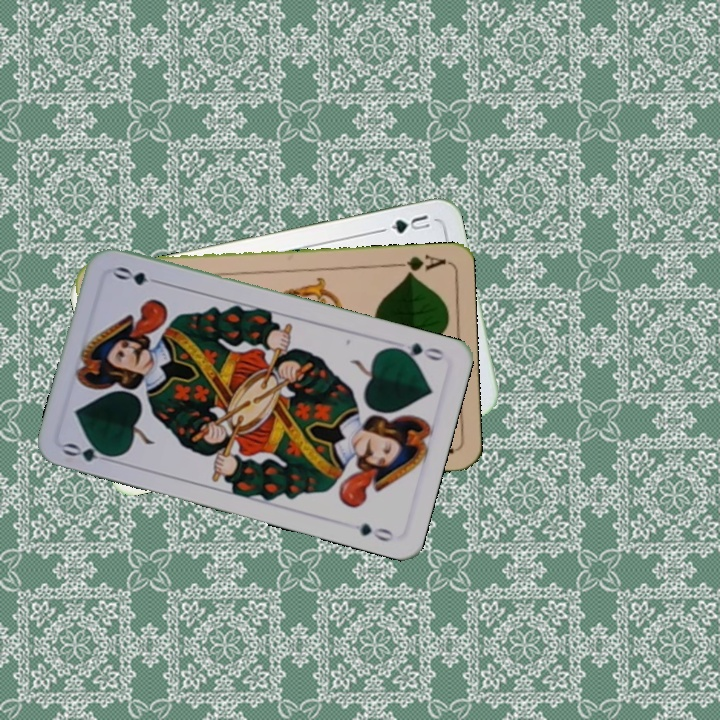GA: (389, 250, 448, 278)
GO: (59, 438, 119, 466), (388, 338, 446, 364)
GU: (387, 210, 433, 237)
